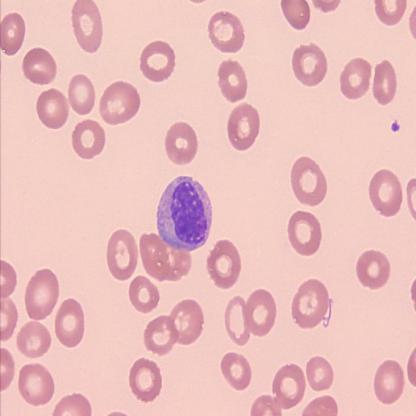Myelocyte: (156, 174, 215, 249)
